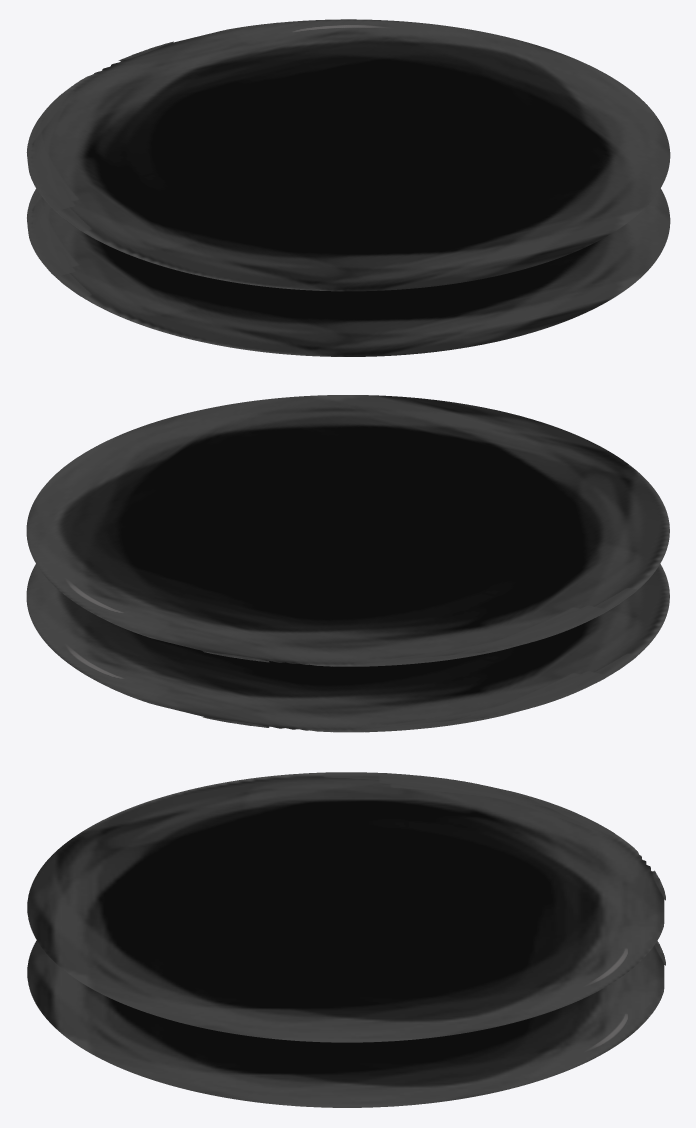
Rendered from Polla_O7.fbx.
3 renders of one model, top to bottom at view 1: azimuth 30°, elevation 25°; view 2: azimuth 150°, elevation 25°; view 3: azimuth 270°, elevation 25°, orthographic.
Visible parts, largest first — view 1: PollaO7; view 2: PollaO7; view 3: PollaO7.
Part boxes in pixels (x1,y1,x2,y2): PollaO7: (26, 19, 670, 356); PollaO7: (26, 395, 669, 732); PollaO7: (27, 772, 665, 1107).
Bounding box in the file's own units: 0.1894 × 0.0204 × 0.1894.
